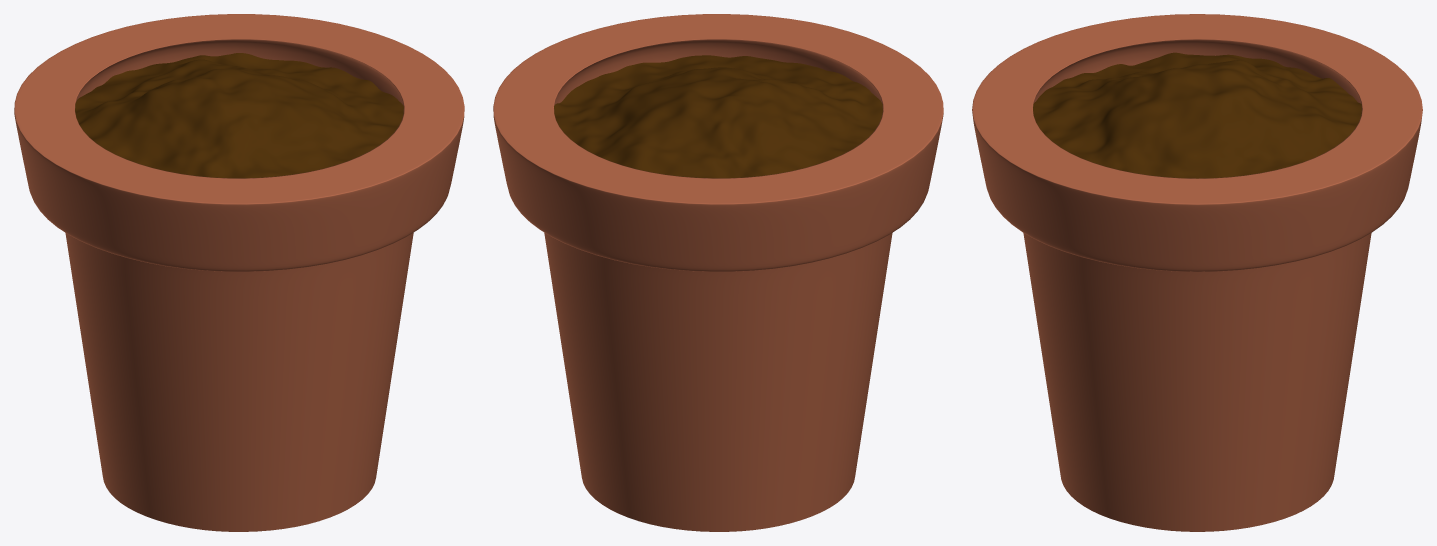
File: plant_pot_planted.fbx
3 views of the same model, side by side, from view 1: azimuth 30°, elevation 25°; view 2: azimuth 150°, elevation 25°; view 3: azimuth 270°, elevation 25° (orthographic).
Parts seen in each view (by area): view 1: planted_seed; view 2: planted_seed; view 3: planted_seed.
Boxes of the visible parts, x1,y1,x2,y2 form: planted_seed: (14,14,464,531); planted_seed: (493,14,943,531); planted_seed: (972,14,1422,531).
Size of the model in its own units: 3.28 by 3.14 by 3.28.
